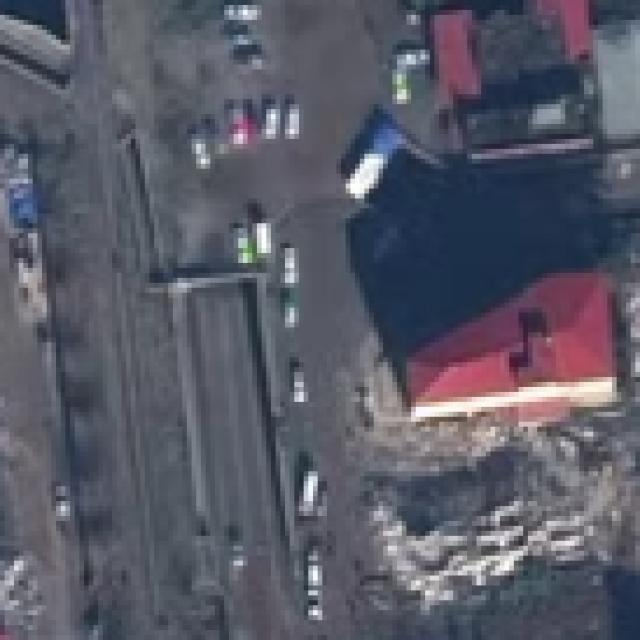Rubble: (371, 432, 634, 570)
